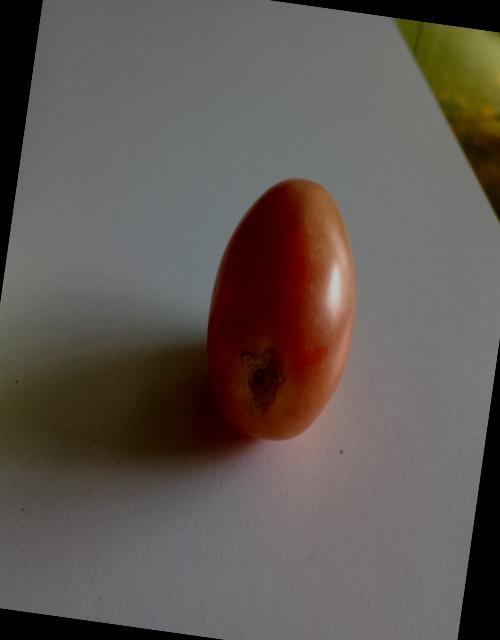Tomate: (168, 158, 397, 486)
